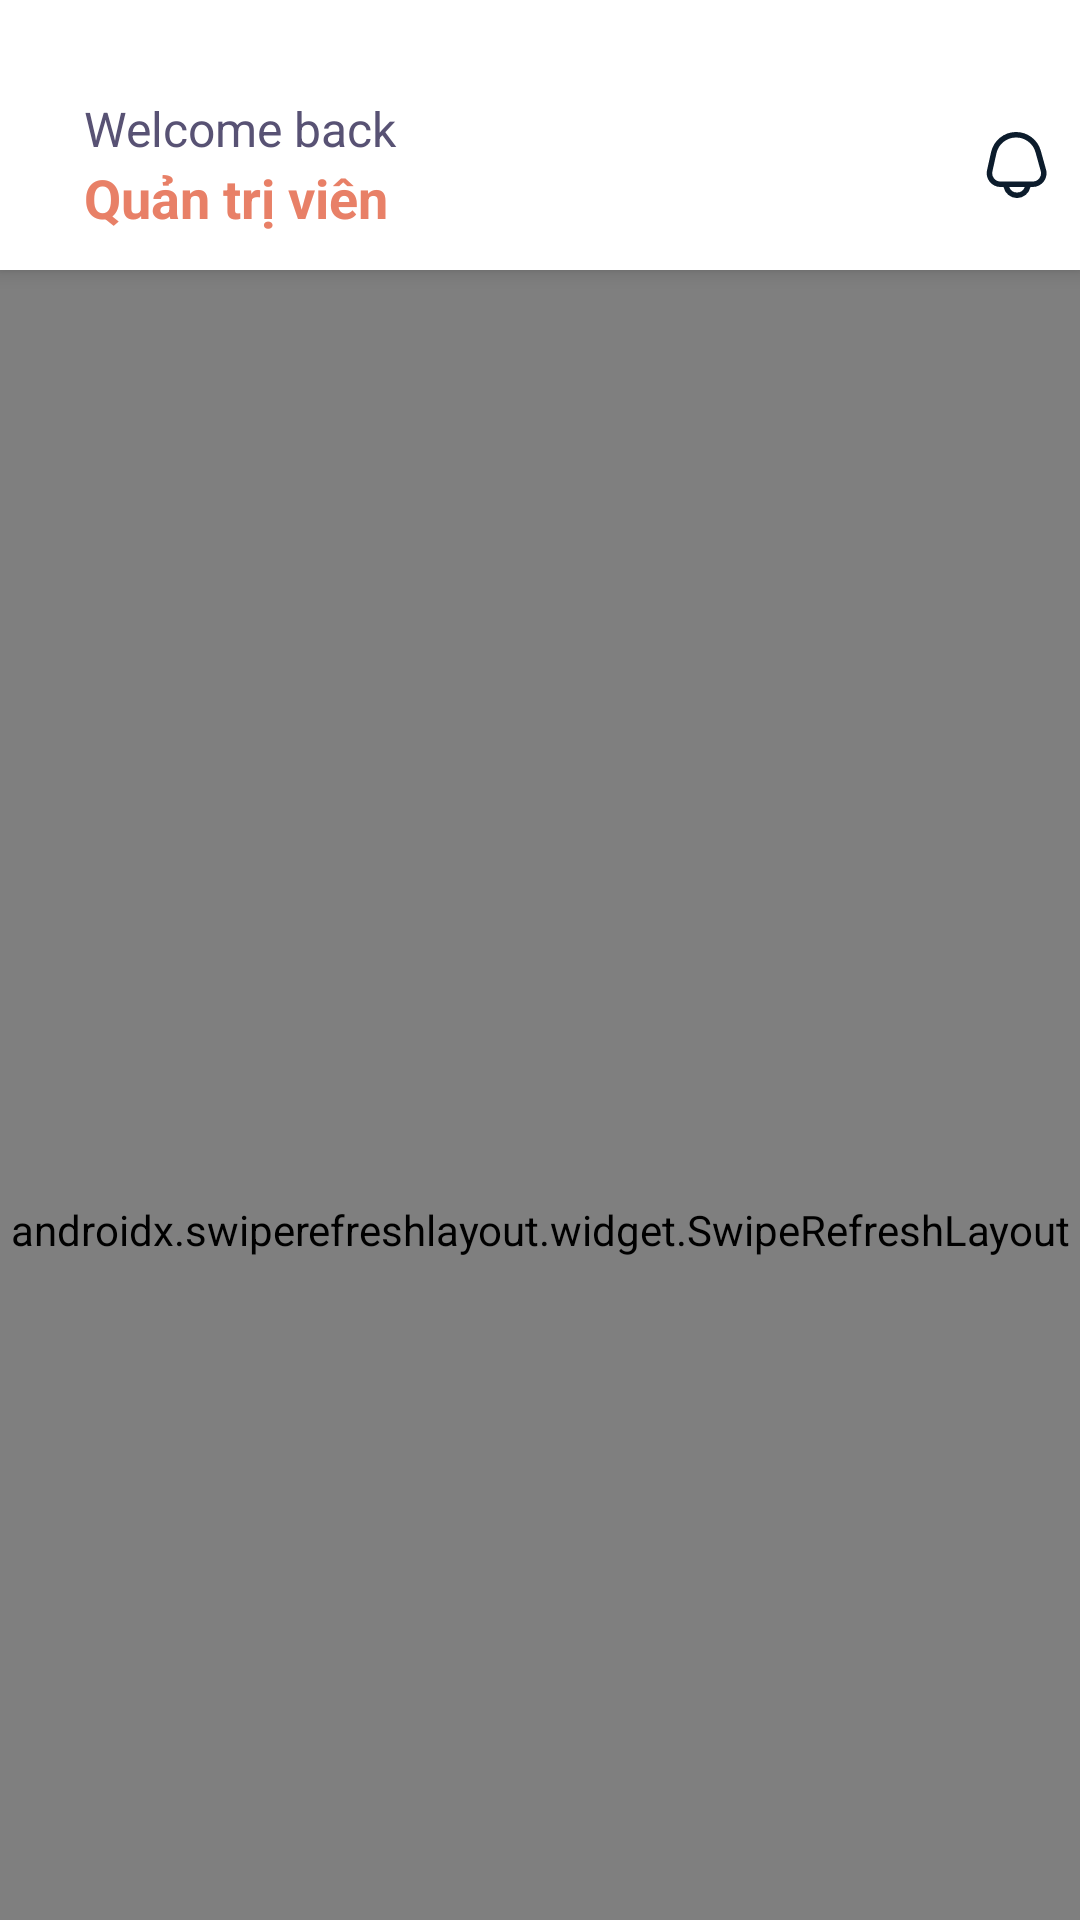

Named icons in this screenshot (1080*1920) and their bounding boxes, (x1, y1, x2, y2):
bell: (986, 132, 1047, 198)
